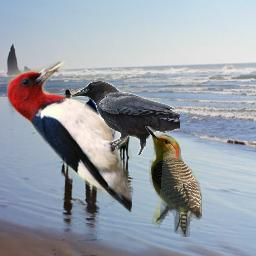Crow: (71, 81, 180, 155)
Woodpecker: (5, 61, 132, 212), (145, 126, 202, 237)
